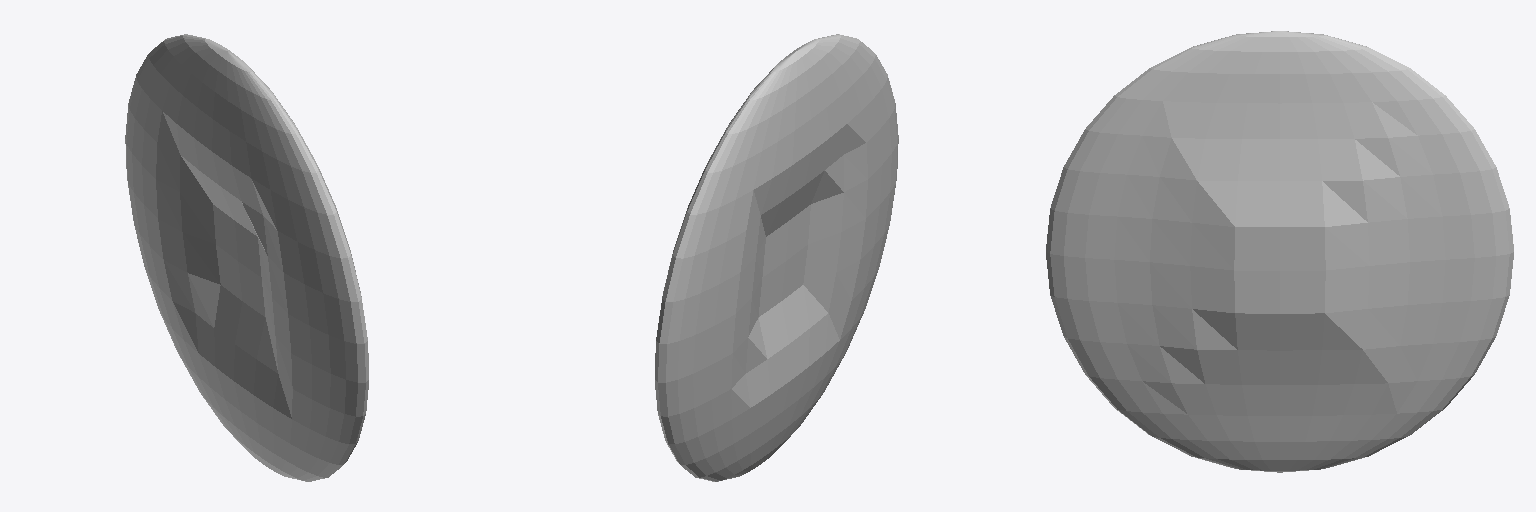
The model's file is shield_000013.obj.
The picture shows the model from 3 angles: view 1: azimuth 30°, elevation 25°; view 2: azimuth 150°, elevation 25°; view 3: azimuth 270°, elevation 25°; orthographic projection.
Bounding box in the file's own units: 0.4314 × 1.99 × 2.